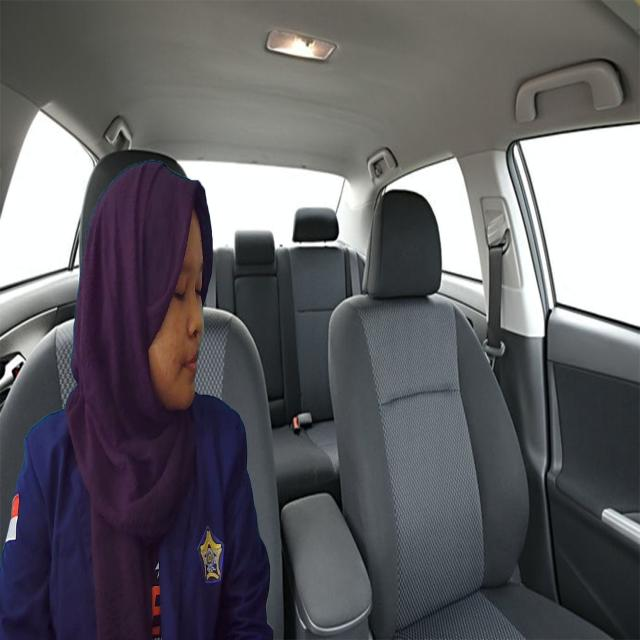no-seatbelt: (140, 172, 222, 412)
